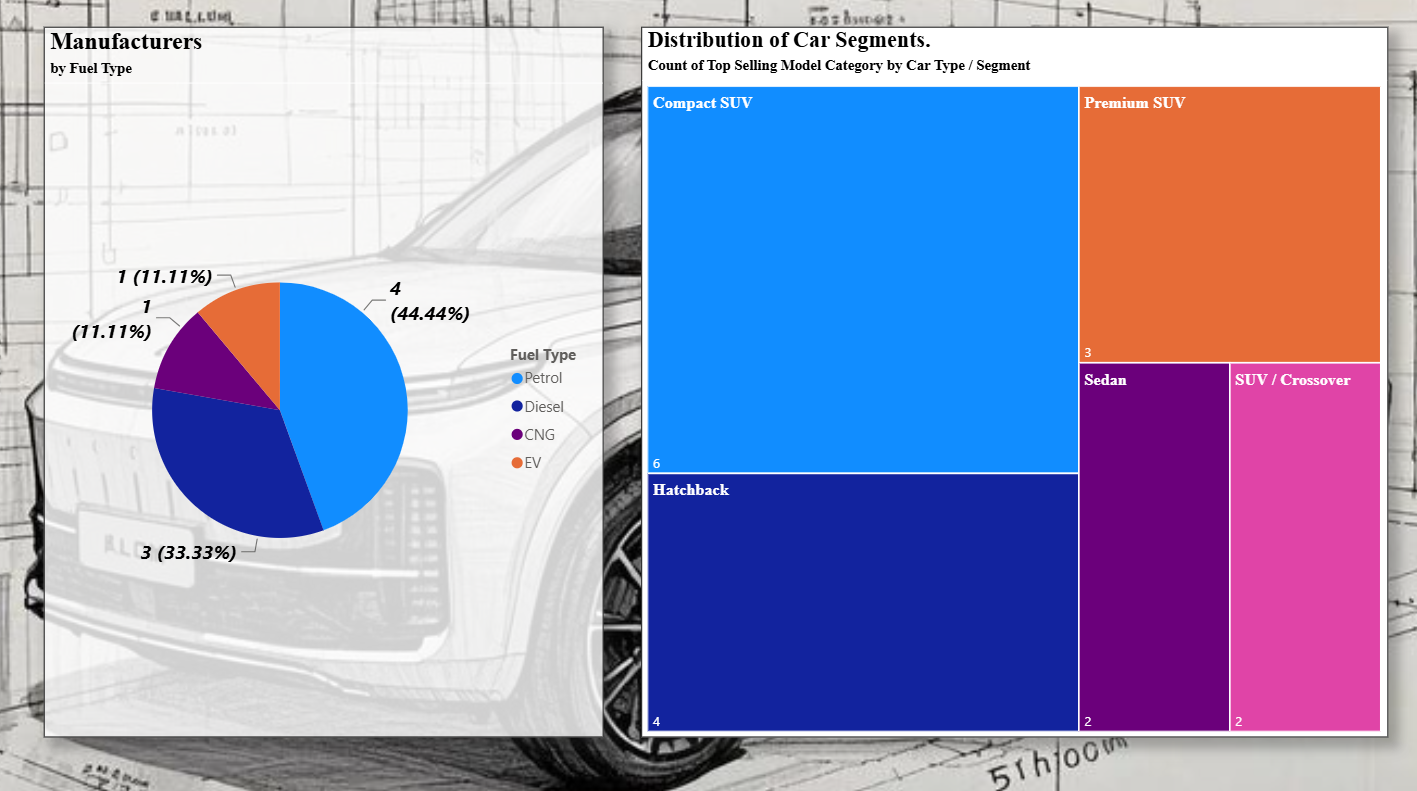

What the dashboard file says about the page in this screenshot:
{"tool":"powerbi","page":{"name":"Page 2","canvas":[1280,720],"ordinal":1},"visuals":[{"type":"pieChart","fields":{"Category":["India Car Preferences 2025.Fuel Type"],"Y":["India Car Preferences 2025.number of manufacturing company"]},"box":[39.5,30.2,504.7,640.7],"z":0},{"type":"treemap","title":"Distribution of Car Segments.","fields":{"Group":["India Car Preferences 2025.Car Type / Segment"],"Values":["CountNonNull(India Car Preferences 2025.Top Selling Model Category)"]},"box":[577.9,30.2,673.3,640.7],"z":1000}]}

Visuals, with their boxes in screenshot pixels (x1, y1, x2, y2), scaled from the page's 1280x720 canvas onto the 1417x791 screenshot:
pieChart - India Car Preferences 2025.Fuel Type x India Car Preferences 2025.number of manufacturing company: left=44, top=33, right=602, bottom=737
"Distribution of Car Segments." treemap: left=640, top=33, right=1385, bottom=737
